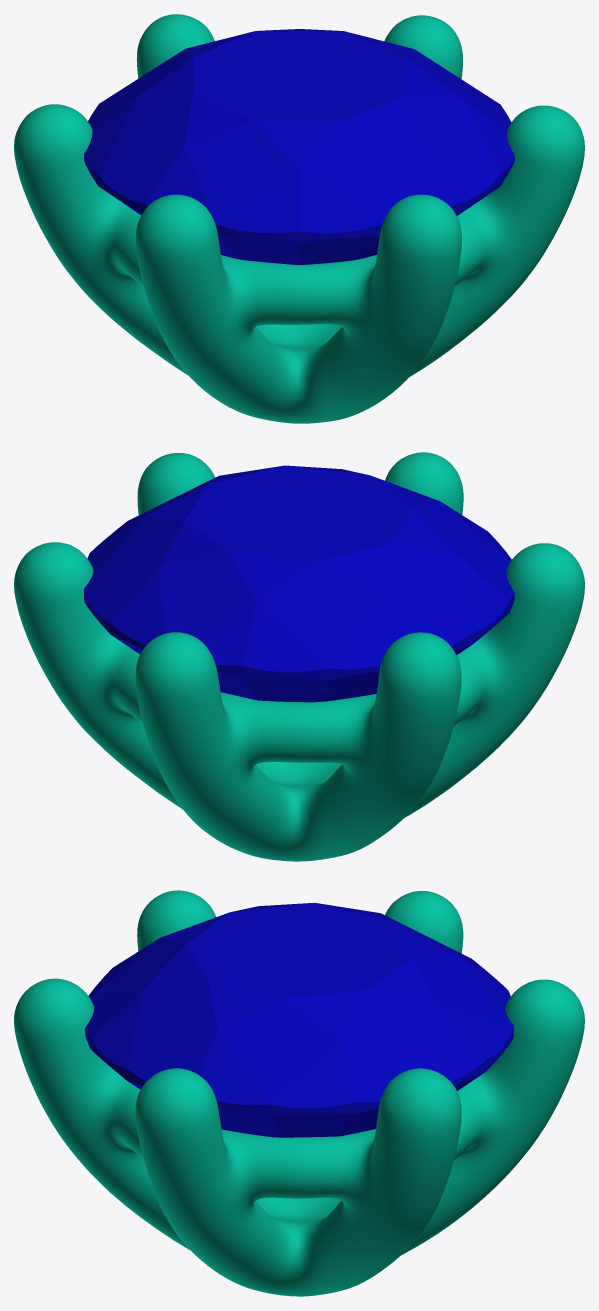
The model's file is Round.glb.
The picture shows the model from 3 angles, top to bottom: view 1: azimuth 30°, elevation 25°; view 2: azimuth 150°, elevation 25°; view 3: azimuth 270°, elevation 25°; orthographic projection.
Visible parts, largest first — view 1: /GSMOD388300-6 PRONG_ROUND_IJ.3dm, Diamond_Round; view 2: /GSMOD388300-6 PRONG_ROUND_IJ.3dm, Diamond_Round; view 3: /GSMOD388300-6 PRONG_ROUND_IJ.3dm, Diamond_Round.
Boxes of the visible parts, box(x1,y1,x2,y2) form: /GSMOD388300-6 PRONG_ROUND_IJ.3dm: box(14, 14, 584, 423); Diamond_Round: box(84, 29, 514, 265); /GSMOD388300-6 PRONG_ROUND_IJ.3dm: box(14, 452, 584, 861); Diamond_Round: box(83, 465, 514, 702); /GSMOD388300-6 PRONG_ROUND_IJ.3dm: box(14, 890, 584, 1296); Diamond_Round: box(85, 902, 513, 1137).
Bounding box in the file's own units: 8.86 × 6.58 × 10.05.
